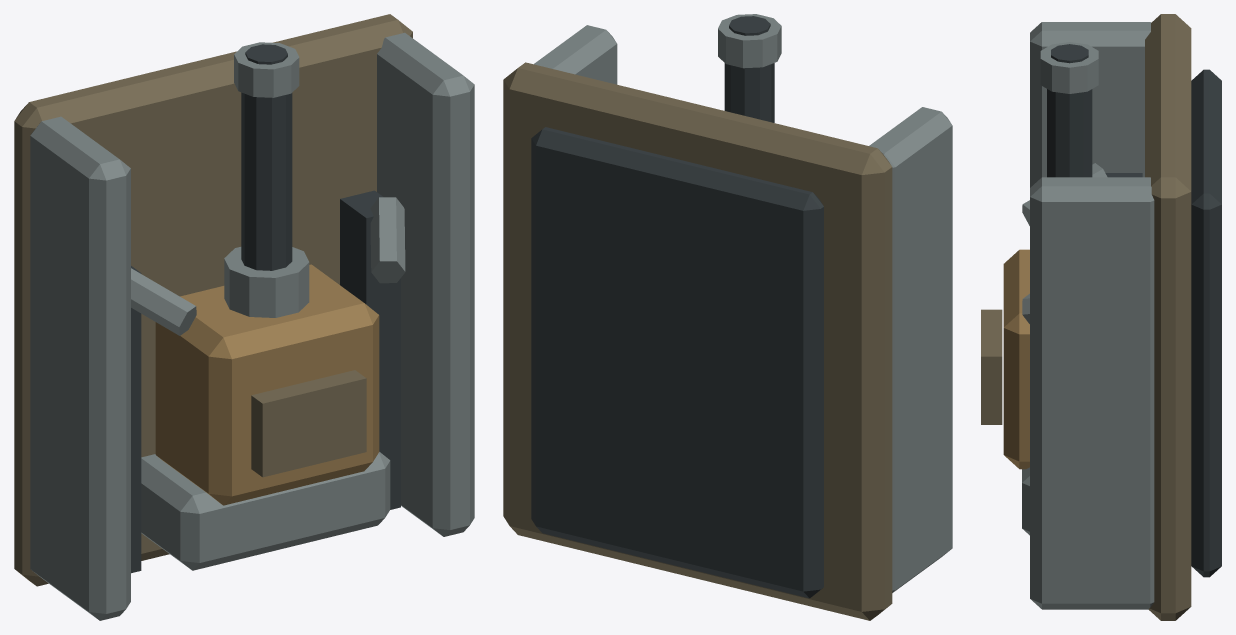
File: person_pack_turret.obj
3 views of the same model, side by side, from view 1: azimuth 30°, elevation 25°; view 2: azimuth 150°, elevation 25°; view 3: azimuth 270°, elevation 25° (orthographic). The views are drawn at different scales.
Visible parts, largest first — view 1: person_pack_turret; view 2: person_pack_turret; view 3: person_pack_turret.
Boxes of the visible parts, bbox=[...] form: person_pack_turret: bbox=[14, 14, 474, 620]; person_pack_turret: bbox=[503, 14, 952, 620]; person_pack_turret: bbox=[981, 14, 1221, 620].
Bounding box in the file's own units: 0.316 × 0.406 × 0.182.
